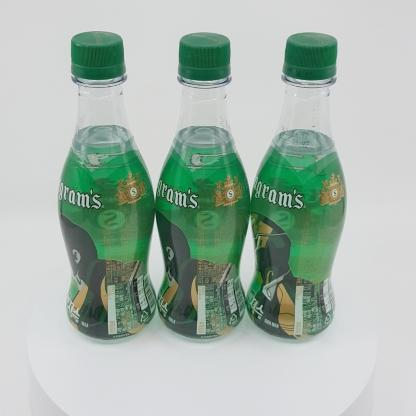-------350ML: (246, 33, 347, 340), (58, 31, 157, 339), (155, 32, 250, 339)
